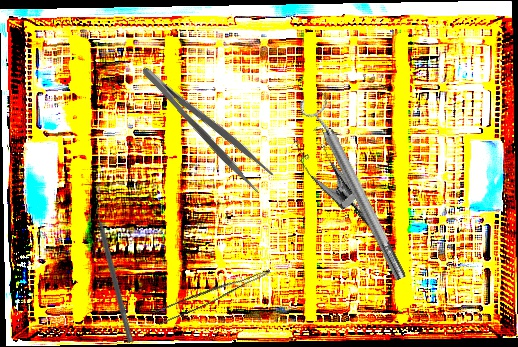Dressing Forceps: (138, 54, 276, 195)
Fixation Ring: (296, 89, 415, 287)
Spatula Surgical: (90, 200, 140, 344)
Speculum: (278, 119, 400, 228)
Tissue Forceps: (153, 256, 271, 329)
